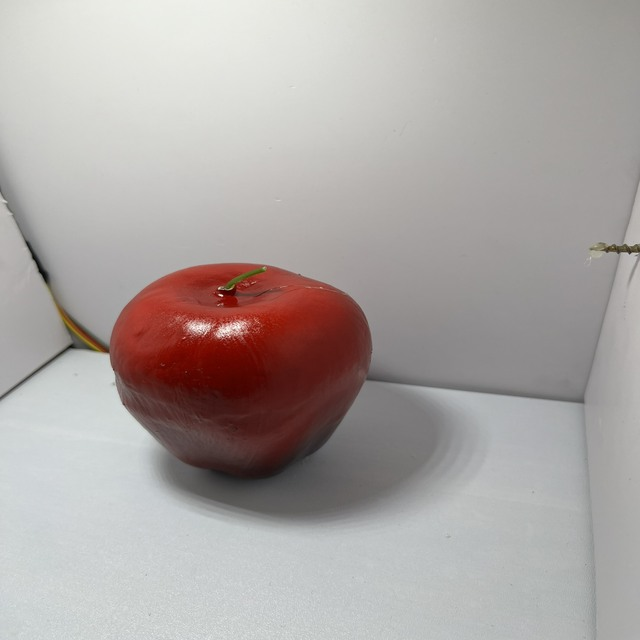Tao: (109, 257, 375, 481)
